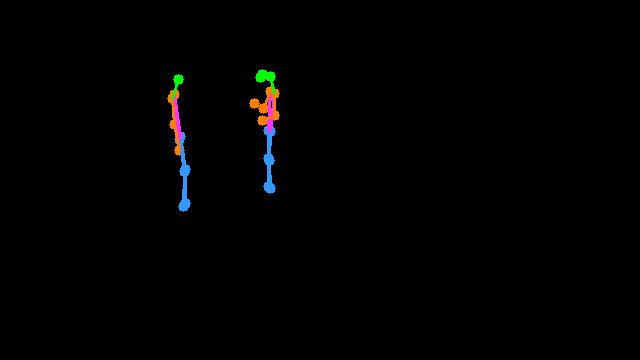normal: (145, 50, 220, 227), (232, 60, 307, 211)
